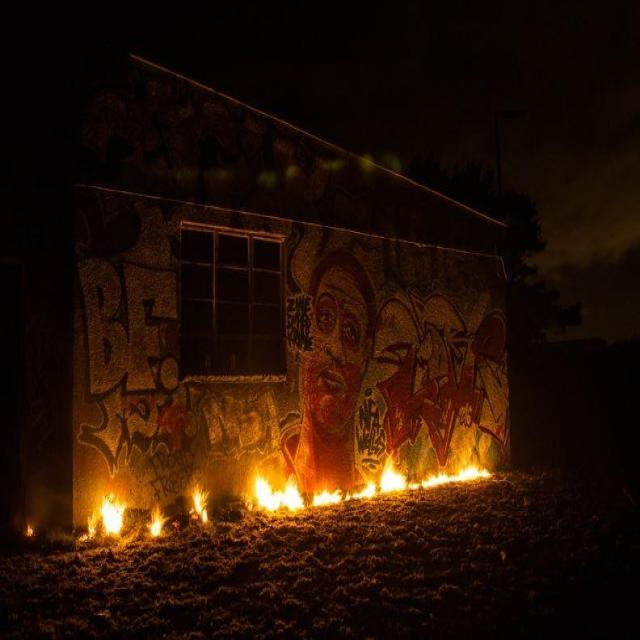Fire: (246, 439, 499, 509), (79, 482, 129, 541), (186, 474, 212, 524), (144, 499, 169, 538)
